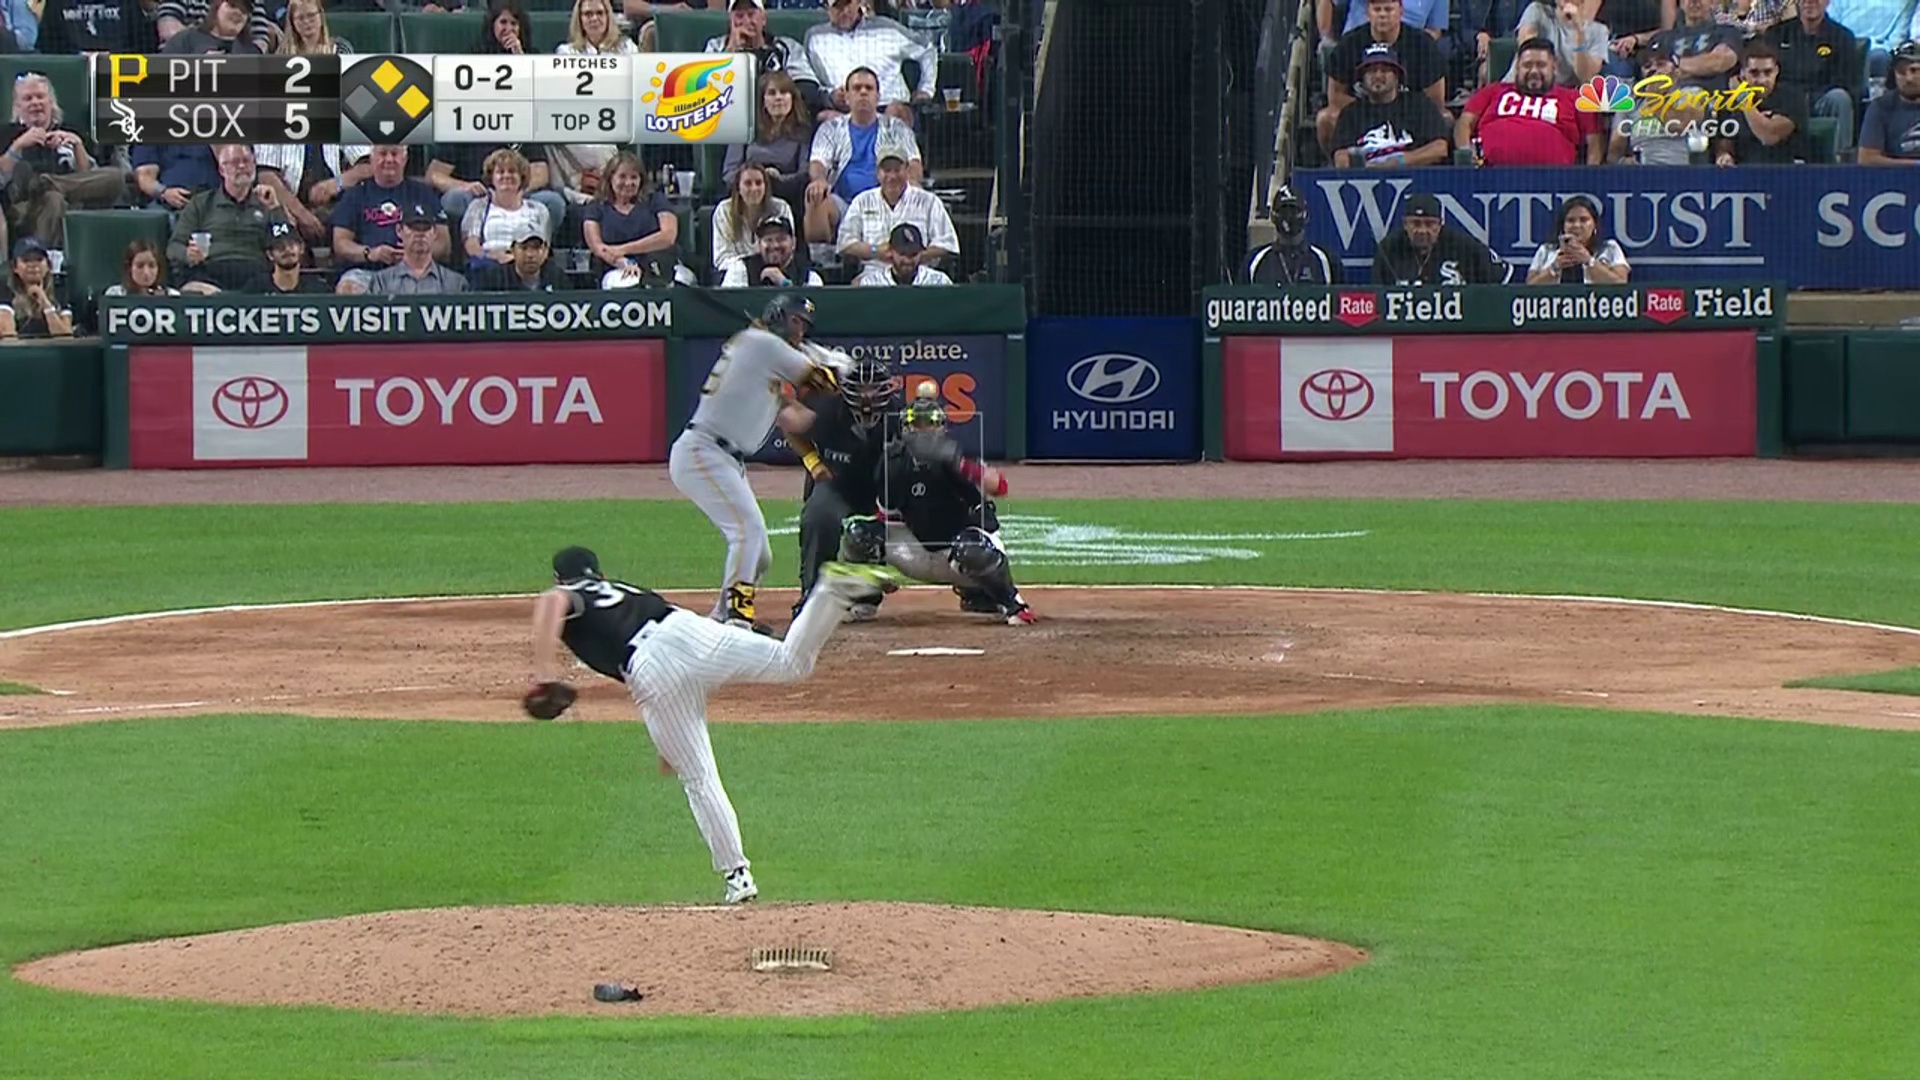baseball: (916, 380, 936, 397)
